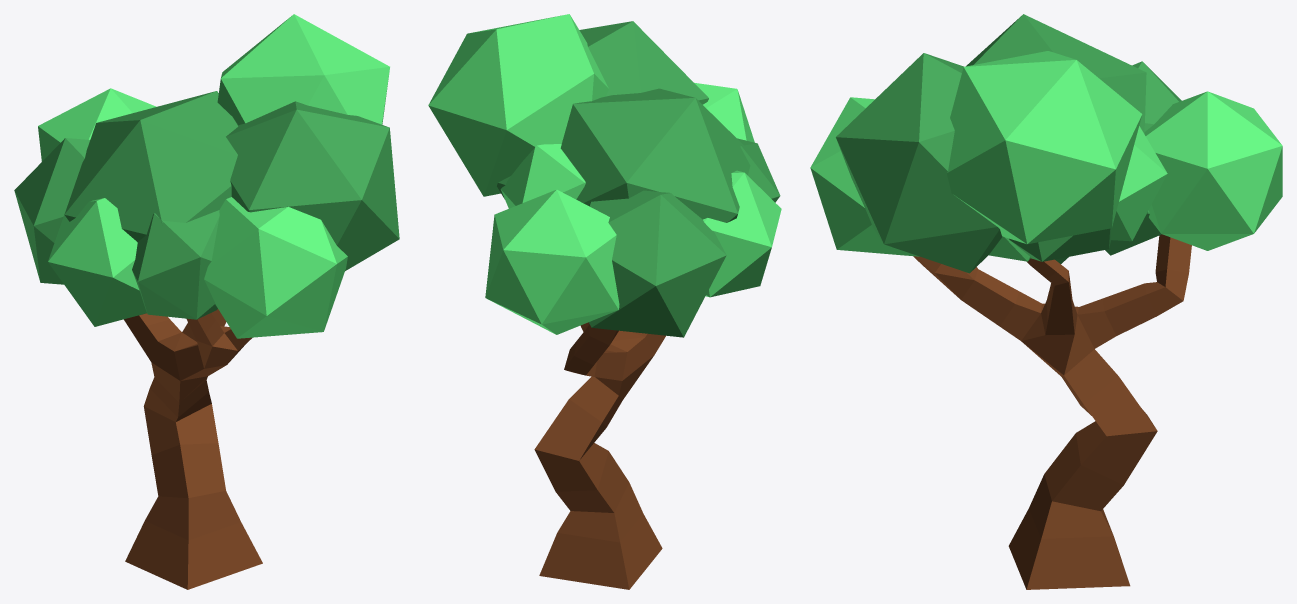
The model's file is tree_1.gltf.
The picture shows the model from 3 angles, left to right: view 1: azimuth 30°, elevation 25°; view 2: azimuth 150°, elevation 25°; view 3: azimuth 270°, elevation 25°; orthographic projection. The views are drawn at different scales.
Parts seen in each view (by area): view 1: tree; view 2: tree; view 3: tree.
Part boxes in pixels (<box>): tree: <box>14,14,399,589</box>; tree: <box>428,14,781,589</box>; tree: <box>810,14,1282,589</box>.
Size of the model in its own units: 4.6 by 7.04 by 5.36.
